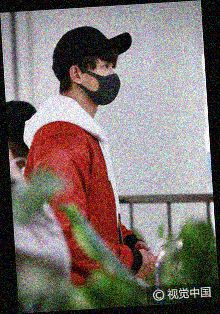with_mask: (86, 61, 122, 108)
